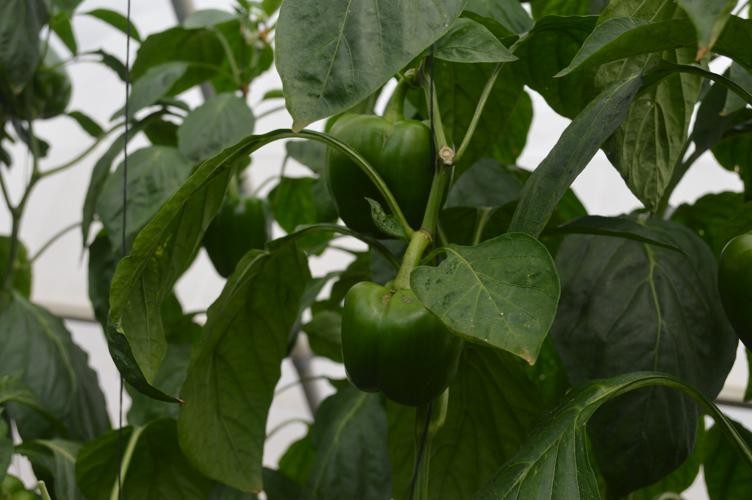BellPepper: (332, 281, 461, 406), (321, 113, 433, 238), (203, 191, 269, 277)
